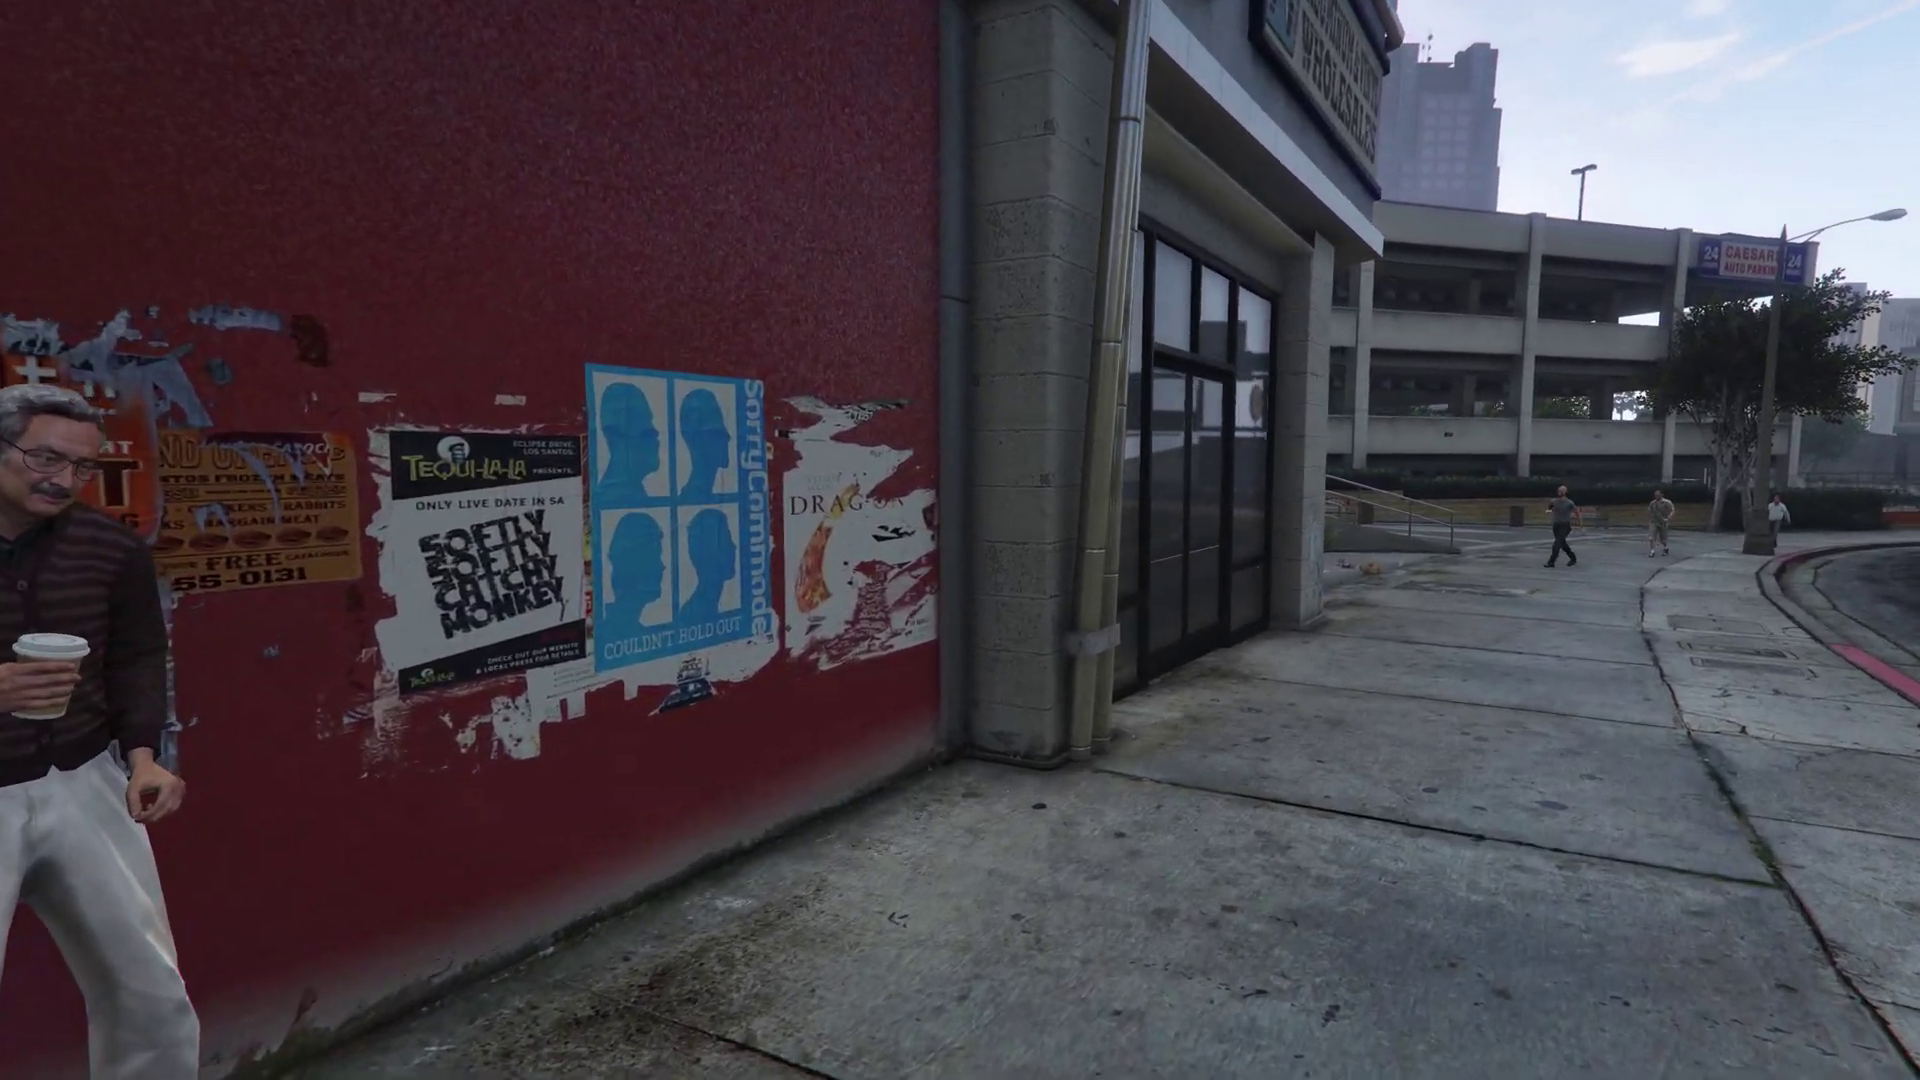person: (1, 380, 187, 1080), (1544, 485, 1580, 568), (1647, 490, 1676, 556), (1768, 495, 1791, 551)
